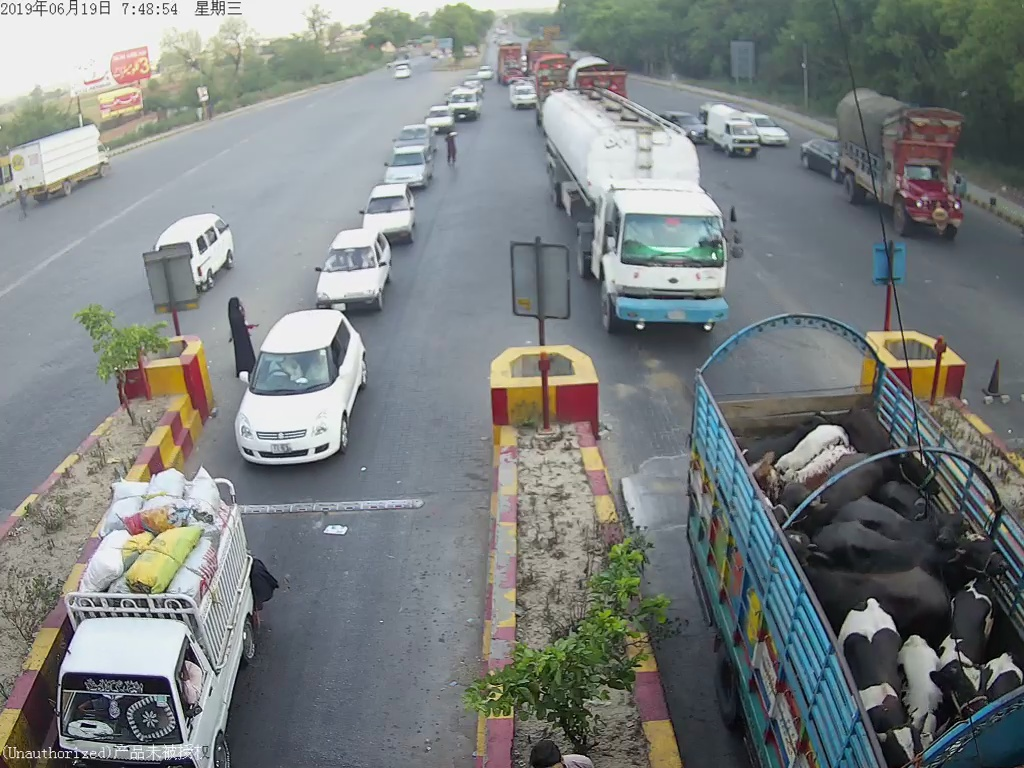Cat-1: (232, 306, 368, 462), (312, 230, 389, 310), (364, 187, 417, 243), (380, 141, 432, 190)
Cat-4: (833, 88, 973, 239)
Cat-5: (545, 88, 744, 329)
